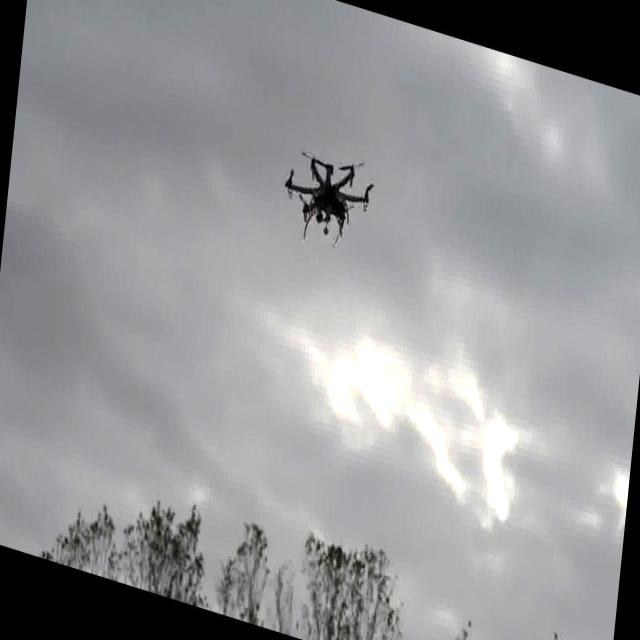drone: (278, 132, 374, 256)
